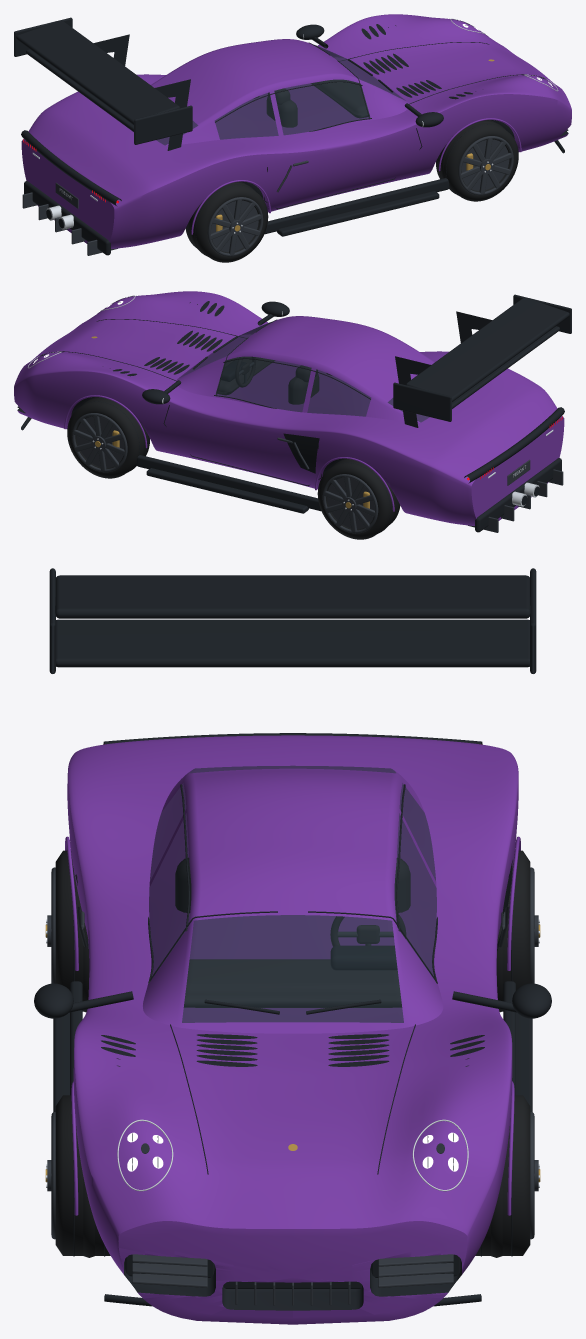
3 views of the same model, one above another, from view 1: azimuth 30°, elevation 25°; view 2: azimuth 150°, elevation 25°; view 3: azimuth 270°, elevation 25° (orthographic). The views are drawn at different scales.
Parts seen in each view (by area): view 1: 911-gt3-rs • body details.007, wheel_FR.048, wheel_RR.048; view 2: 911-gt3-rs • body details.007, wheel_FL.048, wheel_RL.048, steering_wheel.016; view 3: 911-gt3-rs • body details.007, wheel_FL.048, wheel_FR.048, wheel_RR.048, wheel_RL.048, steering_wheel.016.
Boxes of the visible parts, <box> form: 911-gt3-rs • body details.007: <box>14,14,571,255</box>; wheel_FR.048: <box>436,120,518,201</box>; wheel_RR.048: <box>185,181,268,262</box>; 911-gt3-rs • body details.007: <box>14,291,571,532</box>; wheel_FL.048: <box>67,397,149,478</box>; wheel_RL.048: <box>317,458,400,539</box>; steering_wheel.016: <box>235,357,255,387</box>; 911-gt3-rs • body details.007: <box>34,568,551,1324</box>; wheel_FL.048: <box>475,1095,540,1257</box>; wheel_FR.048: <box>45,1095,110,1257</box>; wheel_RR.048: <box>45,850,89,1012</box>; wheel_RL.048: <box>496,850,540,1012</box>; steering_wheel.016: <box>330,912,405,946</box>.
Bounding box in the file's own units: 4.72 × 1.6 × 2.2.
